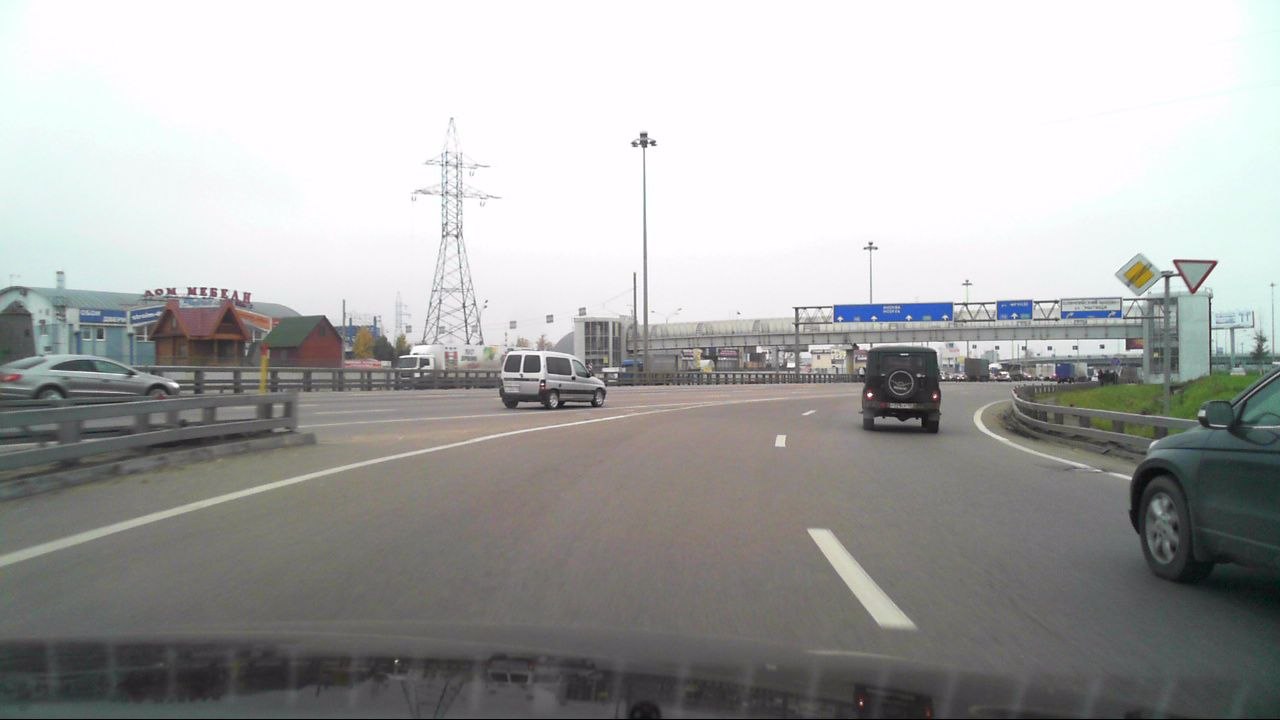main road: (1114, 253, 1163, 296)
